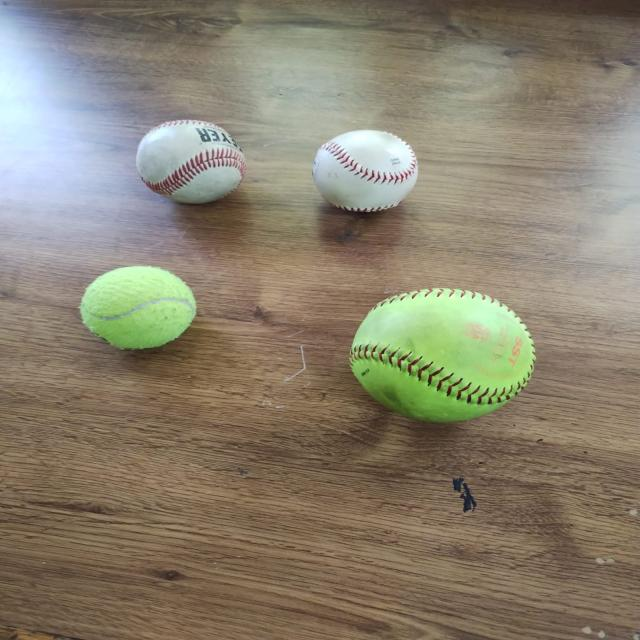beisbol ball: (135, 120, 246, 203), (312, 129, 421, 212)
softball ball: (348, 289, 538, 421)
tenis ball: (78, 265, 198, 349)
